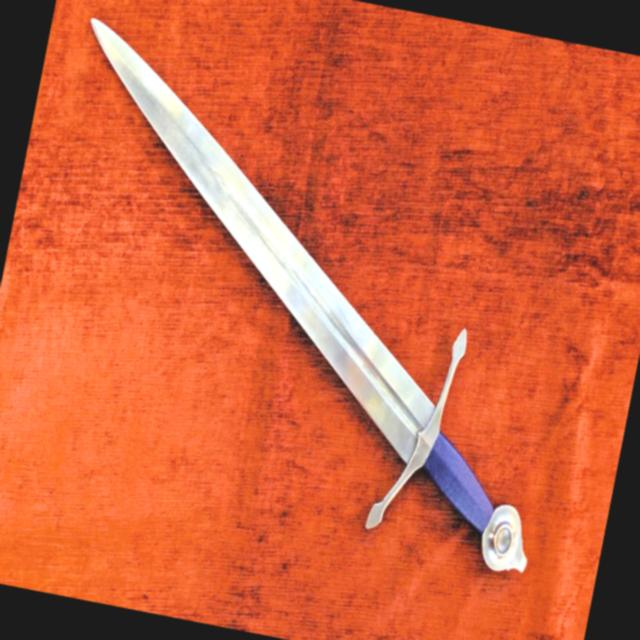short sword: (0, 13, 617, 602)
